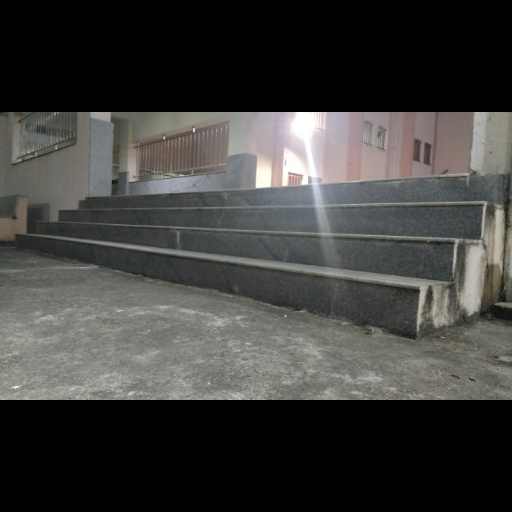Stairs: (17, 176, 507, 336)
